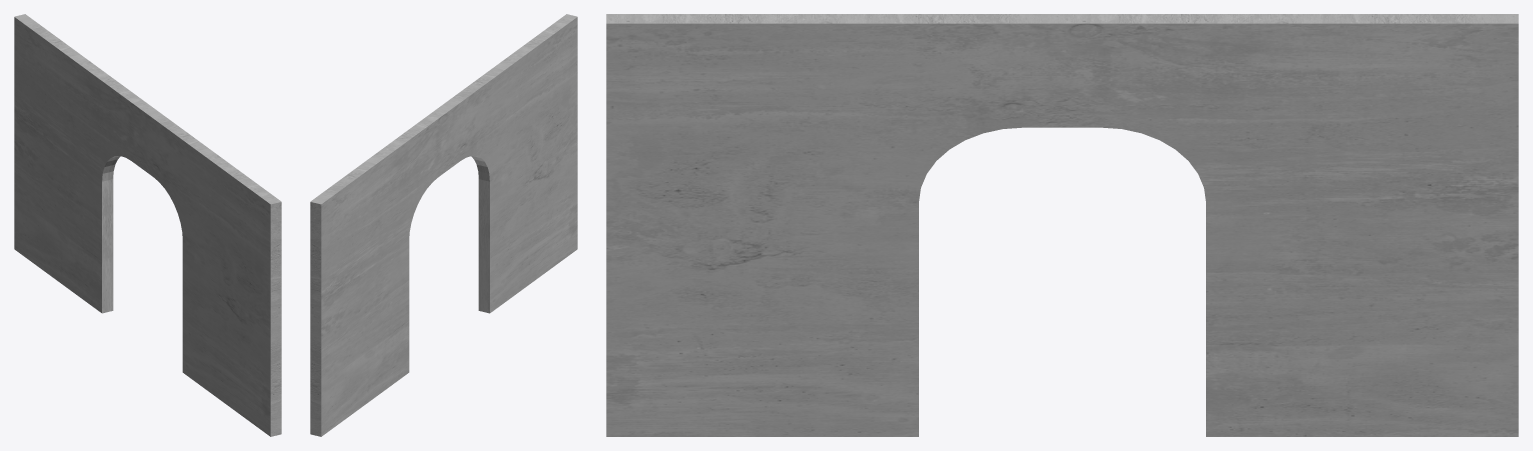
The model's file is WallDoorway.glb.
The picture shows the model from 3 angles, left to right: view 1: azimuth 30°, elevation 25°; view 2: azimuth 150°, elevation 25°; view 3: azimuth 270°, elevation 25°; orthographic projection. The views are drawn at different scales.
Parts seen in each view (by area): view 1: Wall-8x4; view 2: Wall-8x4; view 3: Wall-8x4.
Boxes of the visible parts, x1,y1,x2,y2 form: Wall-8x4: (14, 14, 281, 436); Wall-8x4: (310, 14, 577, 436); Wall-8x4: (606, 14, 1518, 436).
Bounding box in the file's own units: 0.2 × 4 × 8.
1 material, 1 textured.
